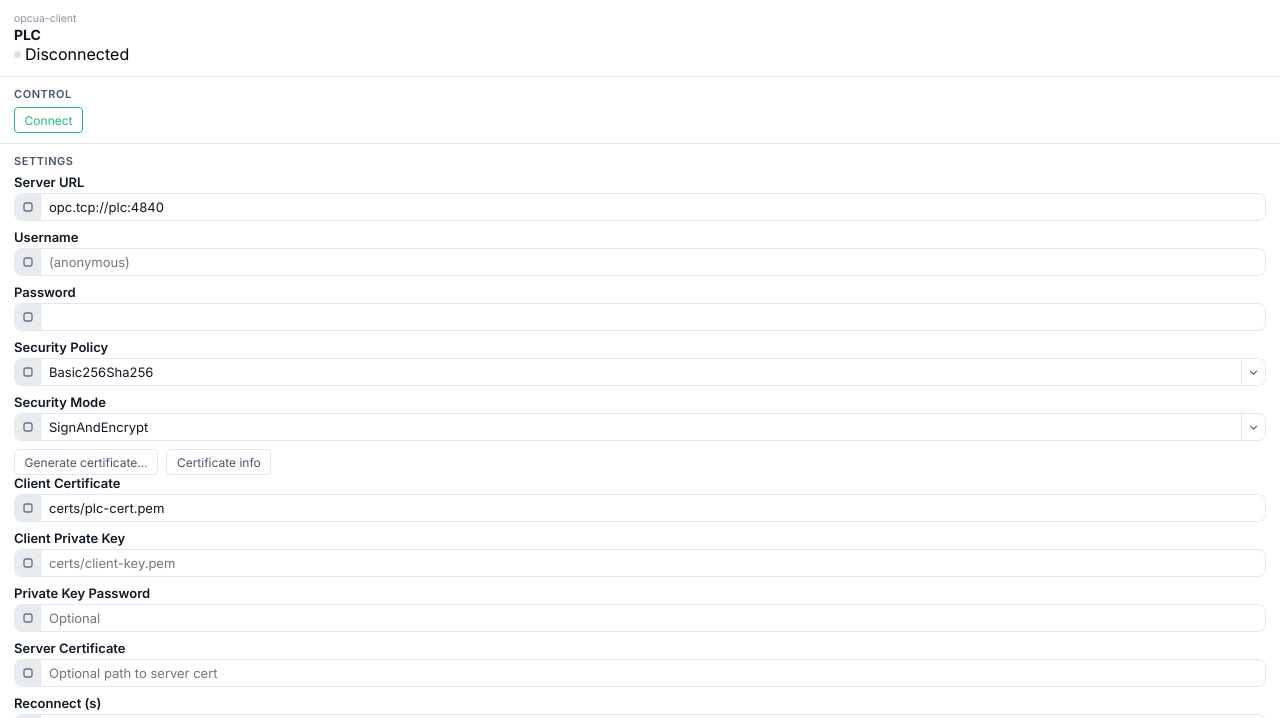
DatasourcePropertiesPanel › CertificateControls › shows the certificate lifecycle when Certificate info is clicked
The image size is (1280, 718).
Click the button "Certificate info" at (219, 462), box [166,449,271,475]
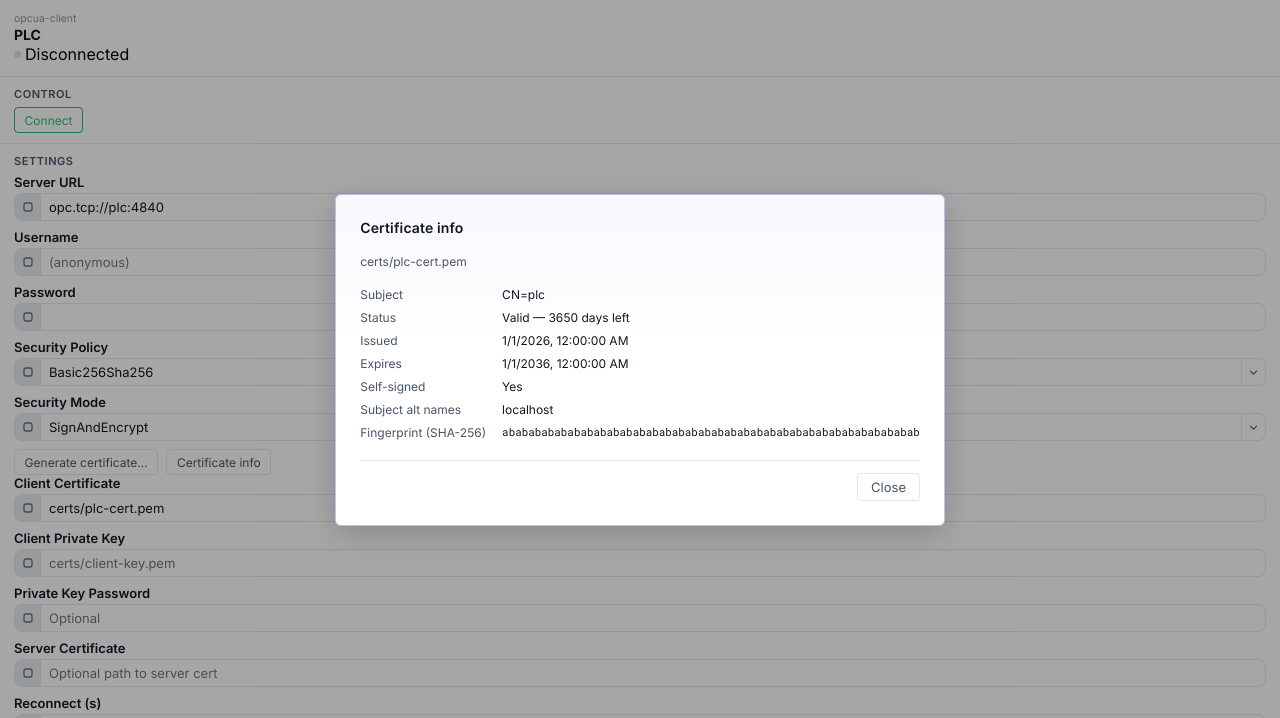
Result: the text "Valid — 3650 days left" is shown at [502,310,630,325]
